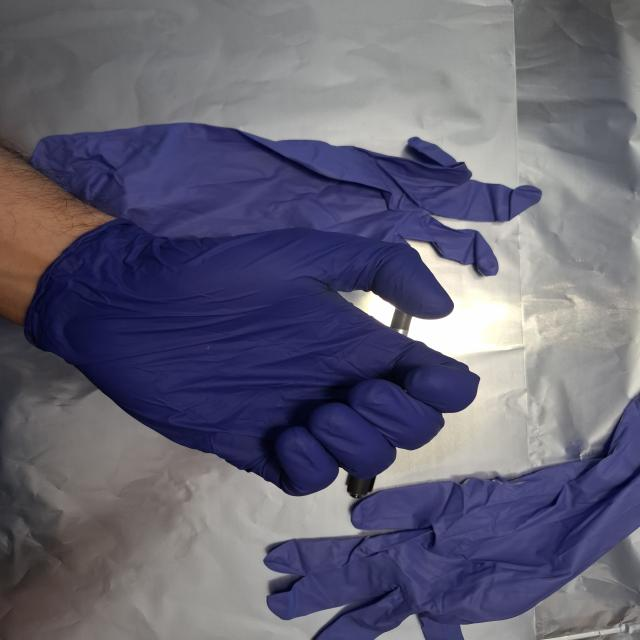glove_on: (32, 219, 484, 499)
